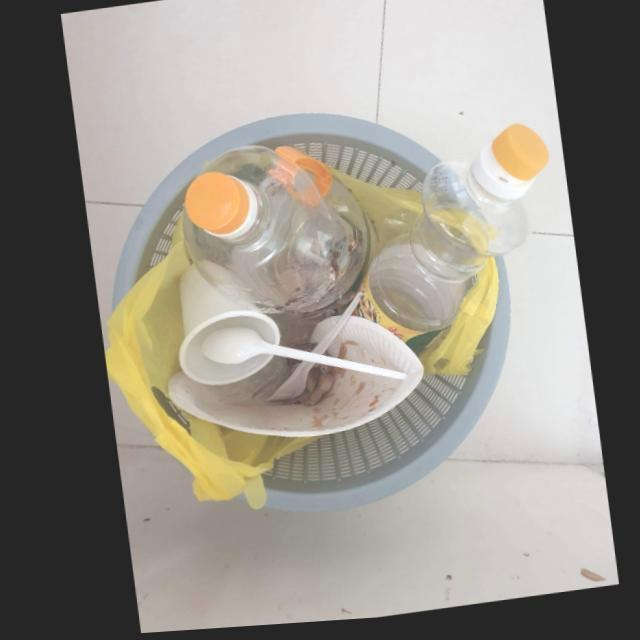cardboard: (161, 295, 419, 440)
left_over_food: (281, 367, 341, 409)
plastic_bottle: (346, 130, 547, 347), (177, 147, 374, 323)
plastic_container: (173, 265, 274, 387)
